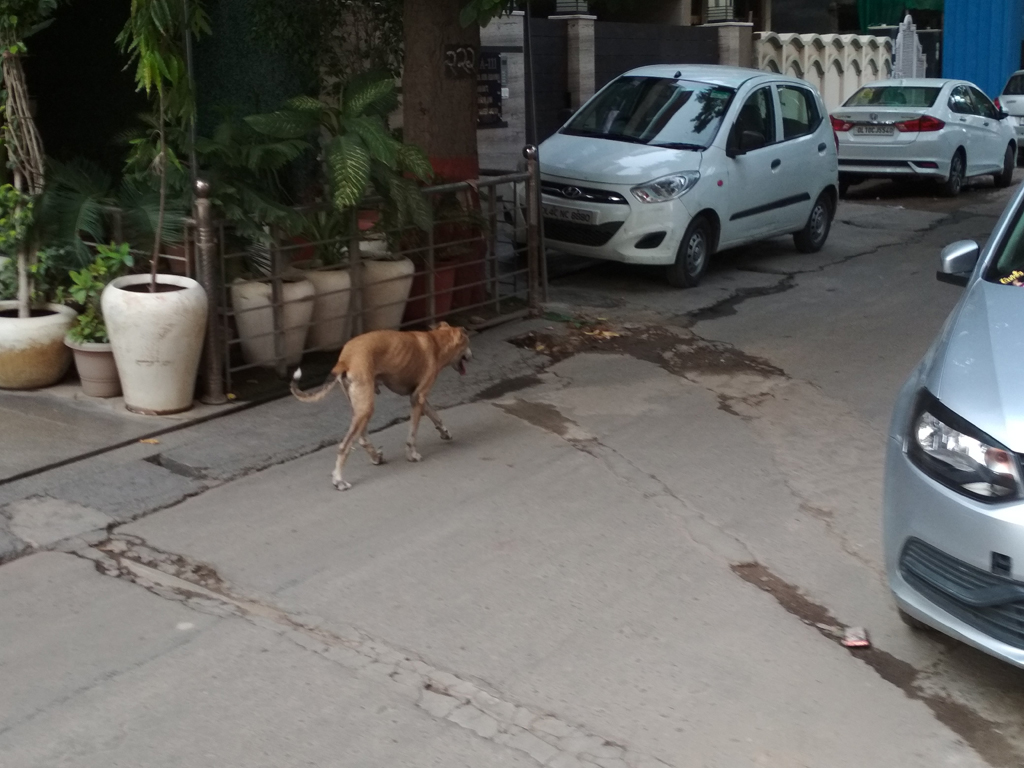dog: (290, 321, 474, 490)
